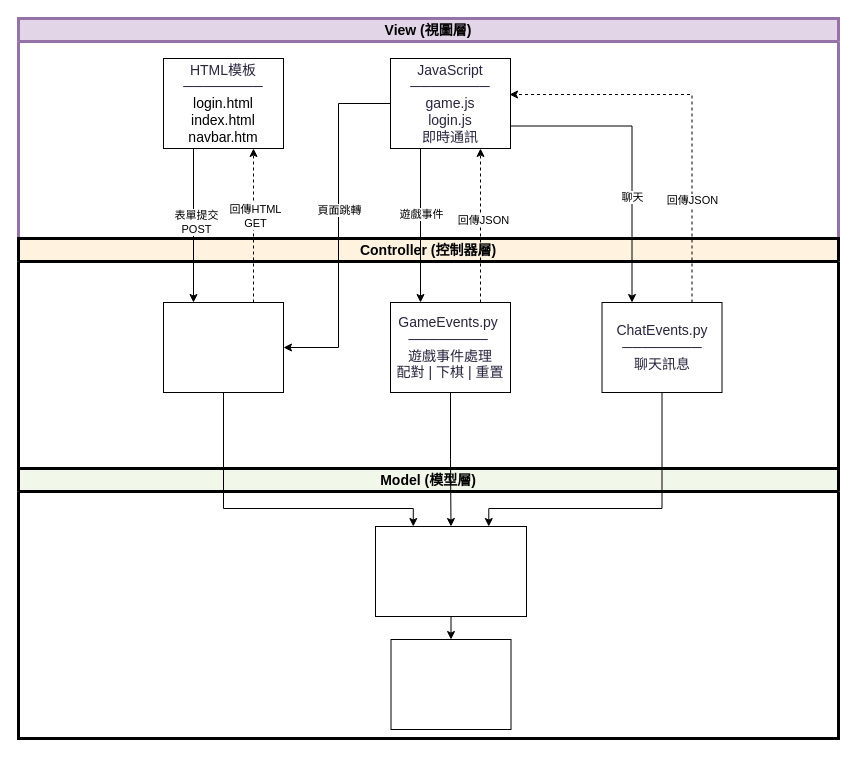
Image size: 857x757. Some labels were removed from this diagram. The shapes that lost their labels are listed below. From the top down, each one's box as (x1, y1, x2, y2) in pixels, then its label:
(162, 302, 284, 392): Webapp.py ──────── HTTP 路由 登入/登出
(374, 526, 526, 616): RoomManager.py ──────── 房間管理器 GameRoom (房間) PlayerInfo (玩家1, 2)
(390, 638, 511, 730): Game.py ──────── 棋盤邏輯 勝負判定
